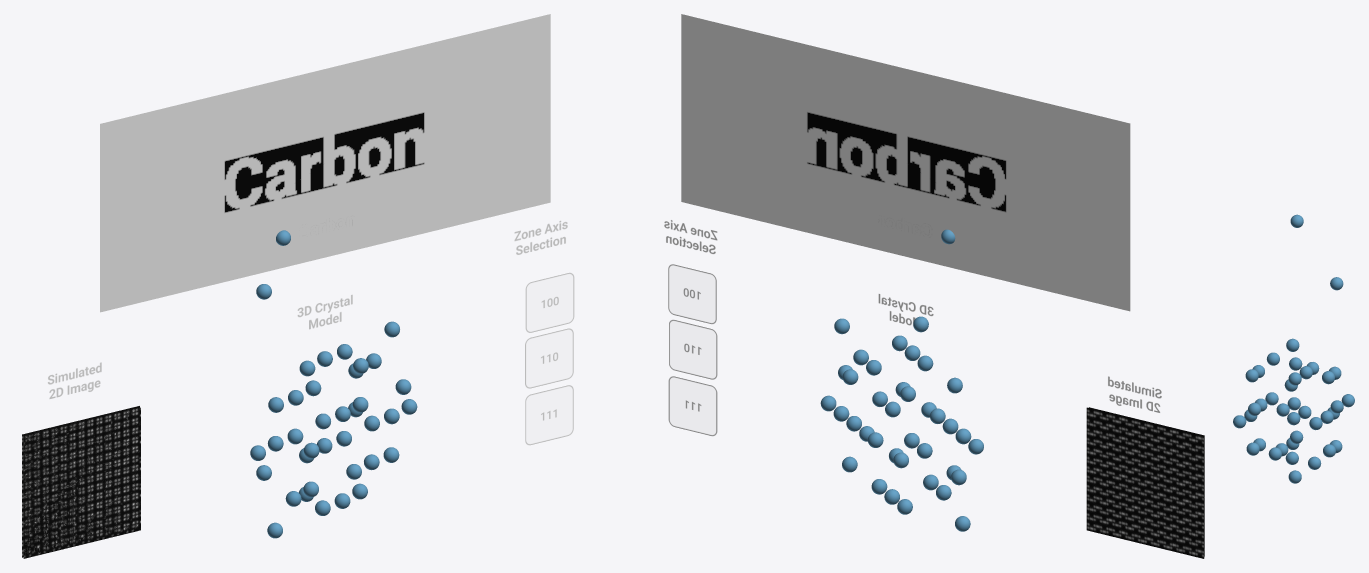
File: Carbon Structure Viewer Rotation 111.glb
The picture shows the model from 3 angles, left to right: view 1: azimuth 30°, elevation 25°; view 2: azimuth 150°, elevation 25°; view 3: azimuth 270°, elevation 25°; orthographic projection. The views are drawn at different scales.
Parts seen in each view (by area): view 1: CarbonTitle, 100_Image, 111_Image; view 2: CarbonTitle, 110_Image; view 3: no part large enough to name.
Part boxes in pixels (bbox=[...]): CarbonTitle: bbox=[100, 14, 550, 312]; 100_Image: bbox=[23, 407, 139, 556]; 111_Image: bbox=[23, 407, 140, 558]; CarbonTitle: bbox=[681, 14, 1130, 311]; 110_Image: bbox=[1086, 407, 1203, 558].
Bounding box in the file's own units: 1.71 × 1.28 × 0.3722.
13 materials, 11 textured.
